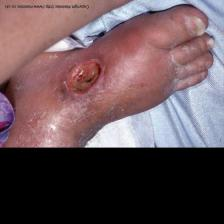Wound: (55, 58, 113, 95)
